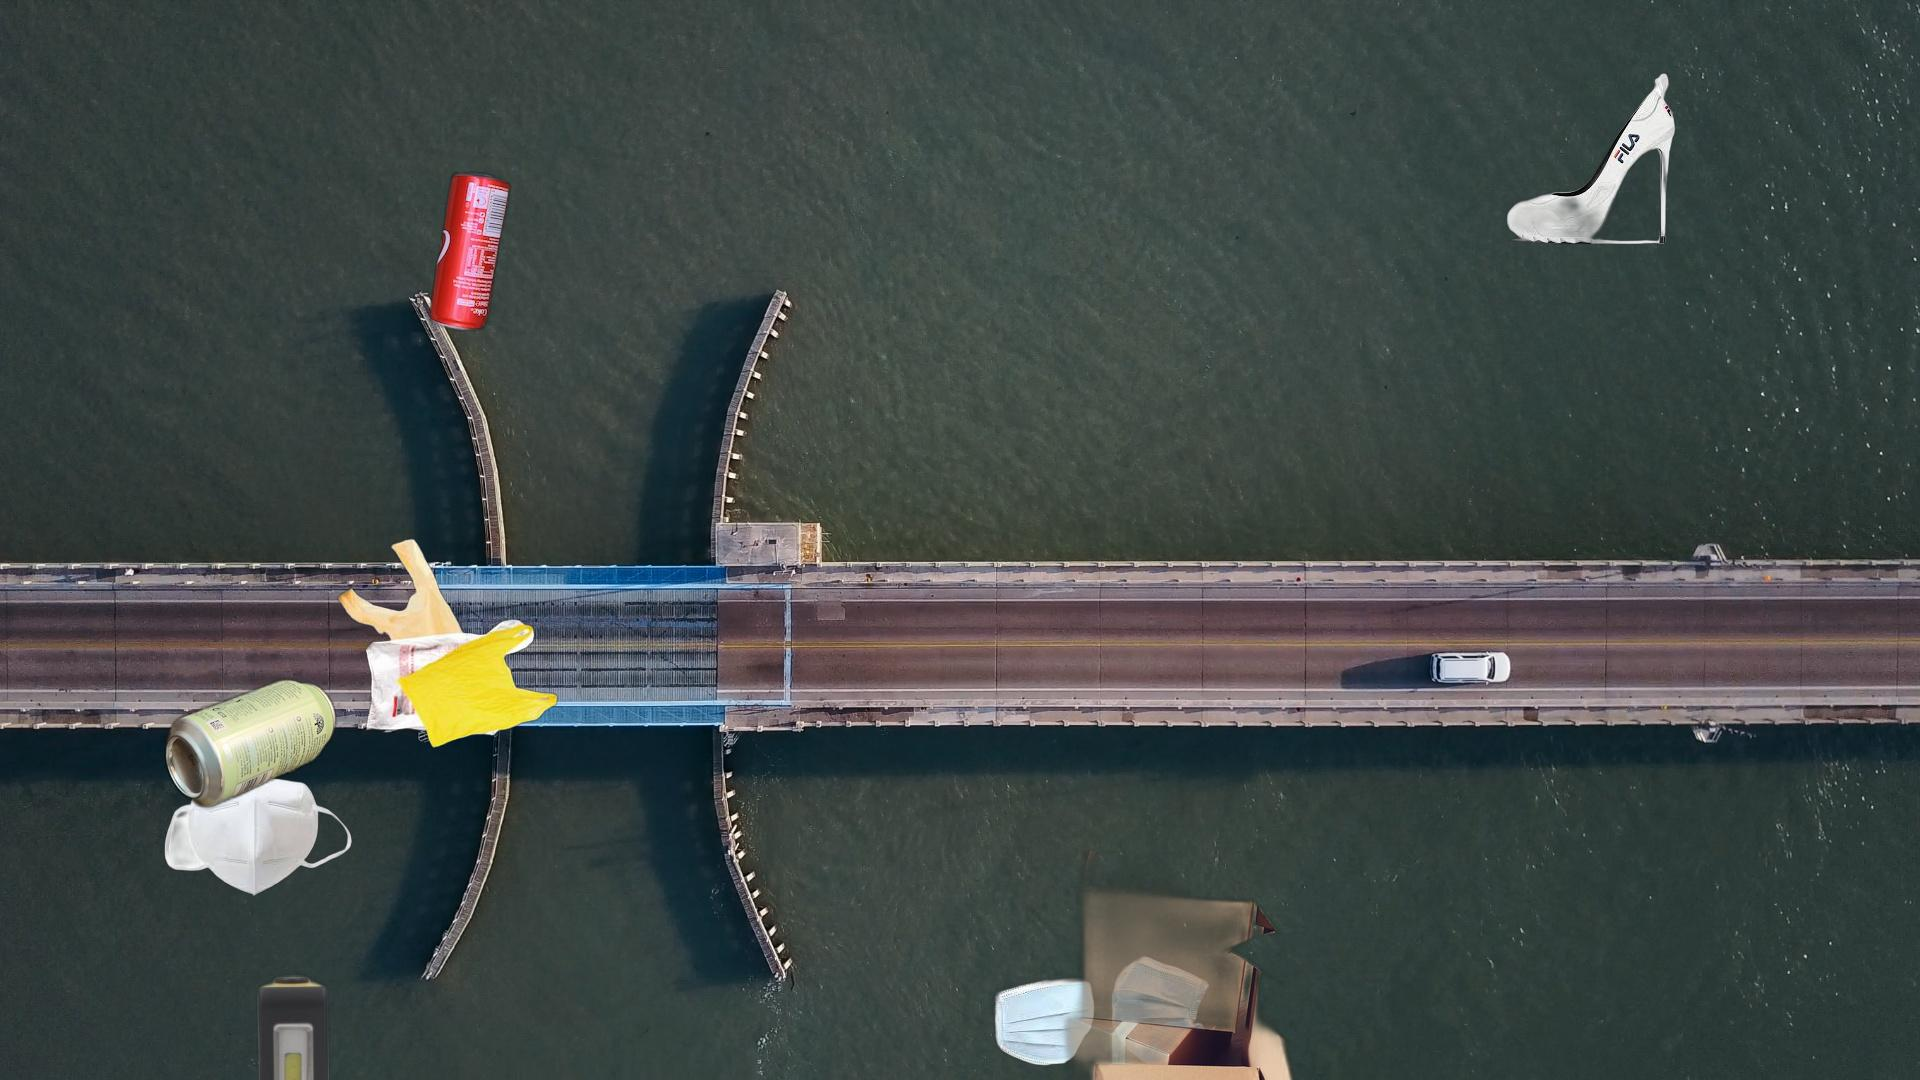metal-cans: (160, 674, 340, 813), (425, 166, 515, 335)
penholder: (251, 968, 339, 1080)
plastic-bag: (335, 535, 560, 751)
shoes: (1482, 70, 1678, 279)
trash: (990, 953, 1220, 1069), (162, 773, 355, 897)
trashbox-cardboard: (1055, 851, 1309, 1080)
